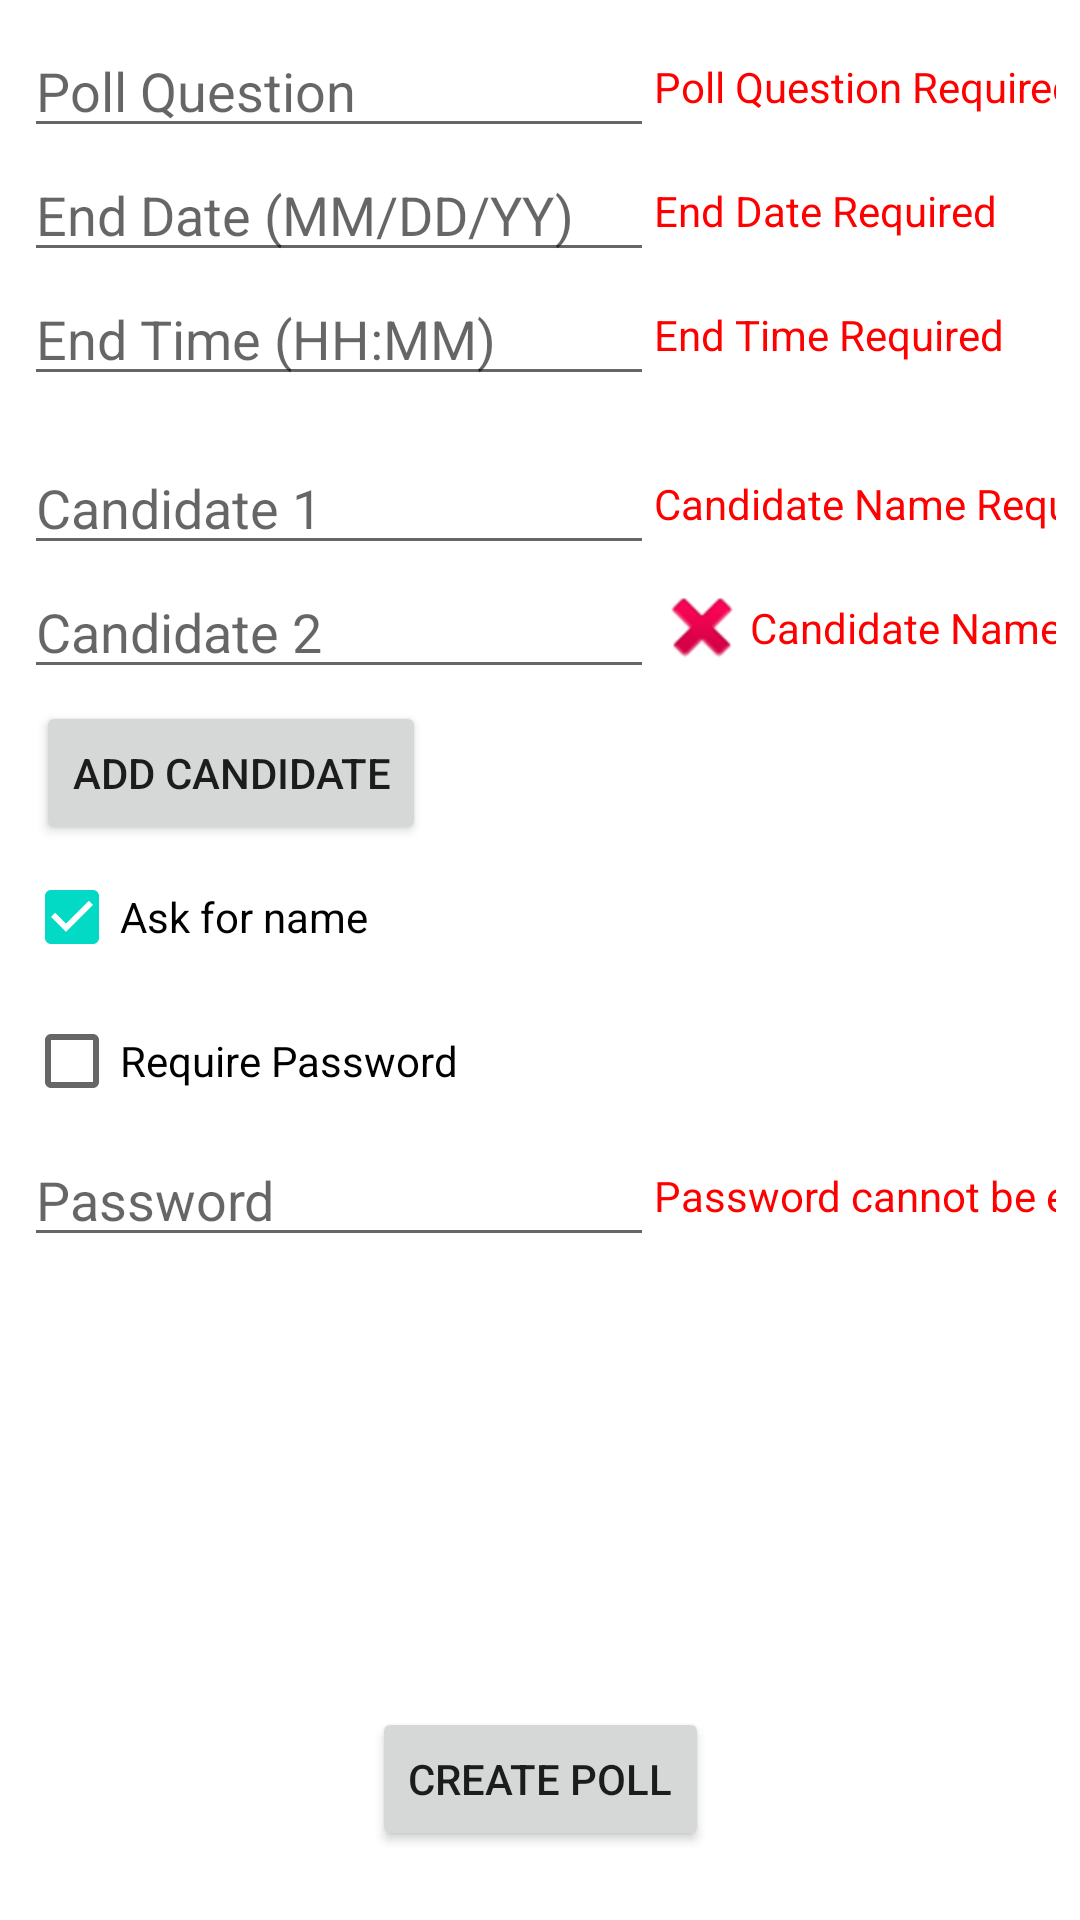

Icons on this 1080x1920 Android screen, each with its box as bbox=[x1, y1, x2, y2]:
delete: bbox=[671, 598, 733, 657]
